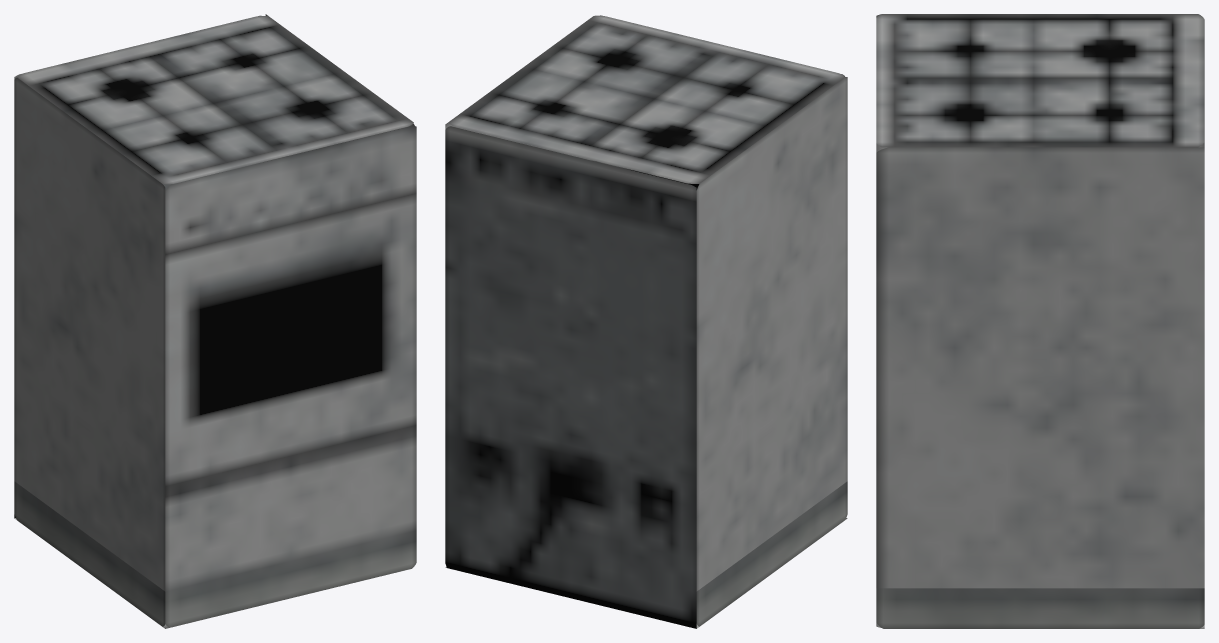
File: SM_EC_Cooker_0.fbx
3 renders of one model, left to right at view 1: azimuth 30°, elevation 25°; view 2: azimuth 150°, elevation 25°; view 3: azimuth 270°, elevation 25°, orthographic. The views are drawn at different scales.
Parts seen in each view (by area): view 1: SM_EC_Cooker_0; view 2: SM_EC_Cooker_0; view 3: SM_EC_Cooker_0.
Boxes of the visible parts, x1,y1,x2,y2 form: SM_EC_Cooker_0: (14,14,416,628); SM_EC_Cooker_0: (445,15,847,628); SM_EC_Cooker_0: (876,14,1204,628).
Bounding box in the file's own units: 0.7805 × 0.8121 × 1.31.
